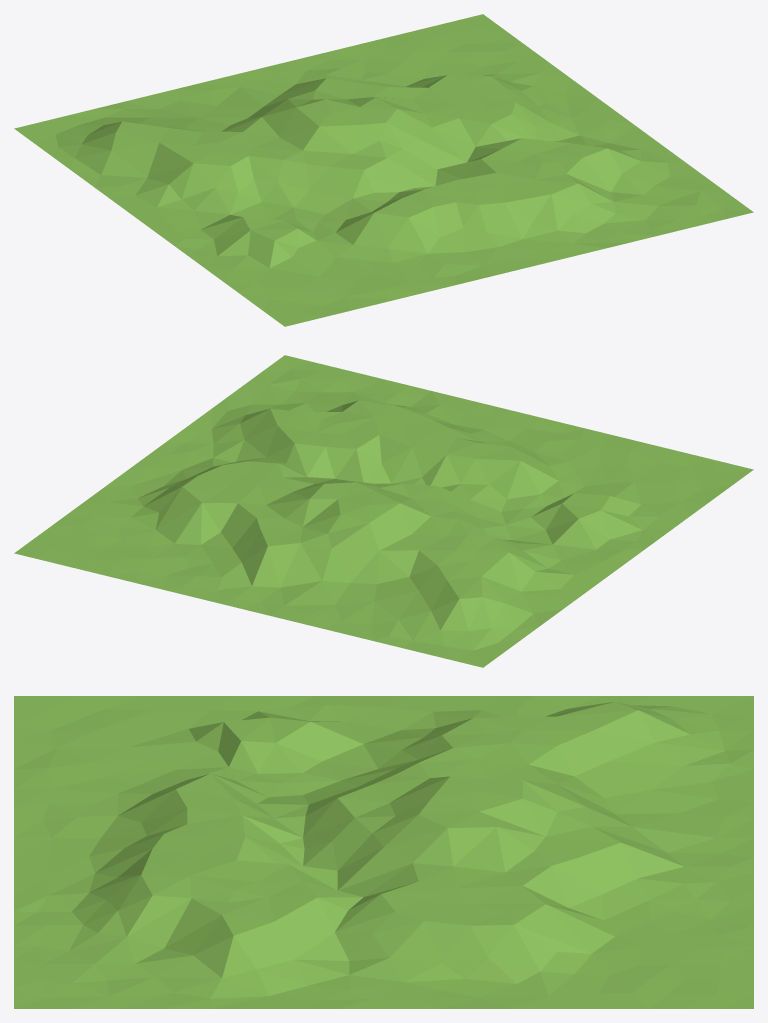
The model's file is MT_Terrain_M_c_08.fbx.
3 views of the same model, one above another, from view 1: azimuth 30°, elevation 25°; view 2: azimuth 150°, elevation 25°; view 3: azimuth 270°, elevation 25° (orthographic). The views are drawn at different scales.
Visible parts, largest first — view 1: MT_Terrain_M_c_08; view 2: MT_Terrain_M_c_08; view 3: MT_Terrain_M_c_08.
Part boxes in pixels (bbox=[...]): MT_Terrain_M_c_08: bbox=[14, 14, 753, 326]; MT_Terrain_M_c_08: bbox=[14, 355, 753, 667]; MT_Terrain_M_c_08: bbox=[14, 696, 753, 1008].
Bounding box in the file's own units: 5000 × 383 × 5000.
